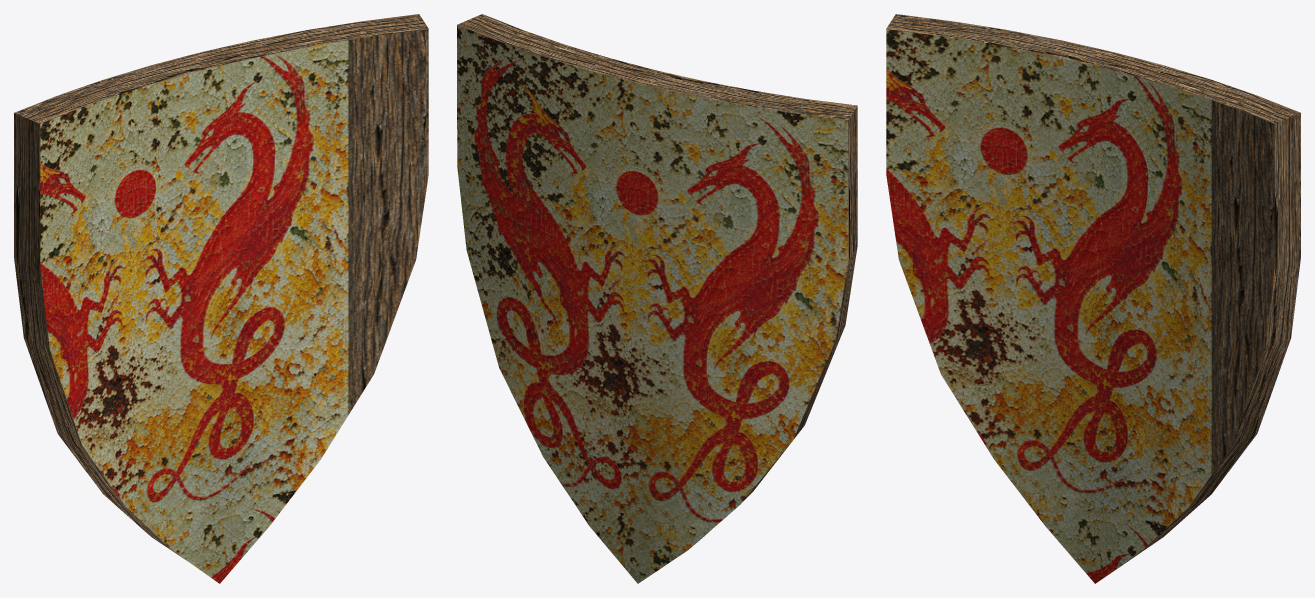
File: mm9_deco_shield4.glb
The picture shows the model from 3 angles, left to right: view 1: azimuth 30°, elevation 25°; view 2: azimuth 150°, elevation 25°; view 3: azimuth 330°, elevation 25°; orthographic projection. The views are drawn at different scales.
Parts seen in each view (by area): view 1: Shield4; view 2: Shield4; view 3: Shield4.
Boxes of the visible parts, x1=… form: Shield4: x1=14, y1=14, x2=428, y2=583; Shield4: x1=457, y1=14, x2=857, y2=583; Shield4: x1=886, y1=14, x2=1300, y2=583.
Bounding box in the file's own units: 0.9023 × 1.1 × 0.1288.
Materials: 1 (1 with a texture image).
